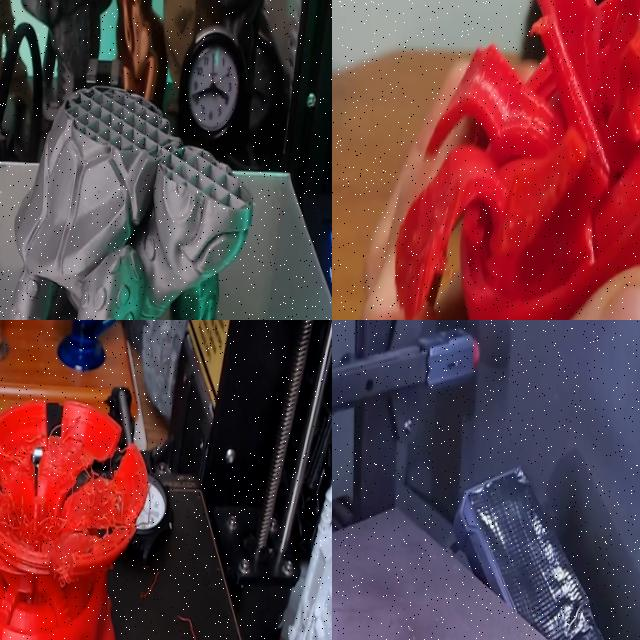spaghetti: (0, 402, 131, 563), (141, 569, 162, 600), (176, 614, 201, 640)
